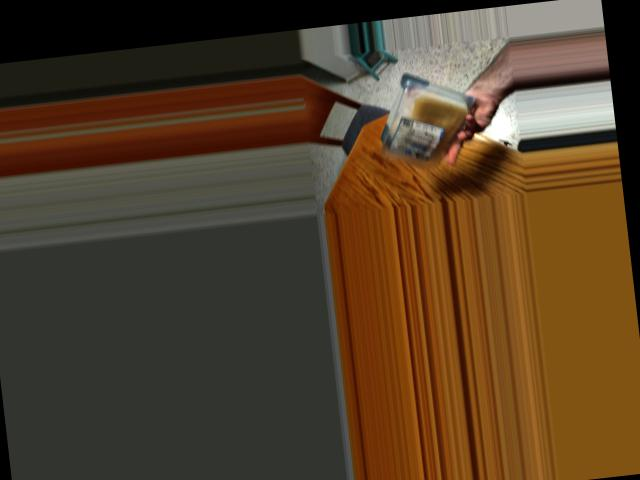cheese: (367, 72, 477, 163)
